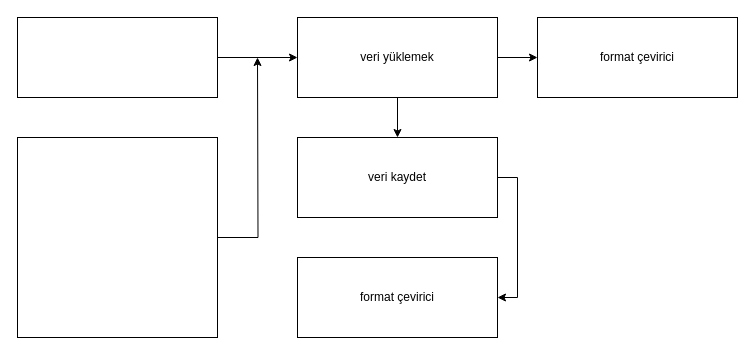
Some shapes in this 755 by 355 pixel diagram are drawn without their labels. Here are the shapes that lost their labels. From the top down, the centre of each, then its label:
[117,57]: bir sürü xml ve jpg, png
[117,237]: --source "şu şu şu şu" target belirli __TRAINING__ --test/val 0<1 --format
